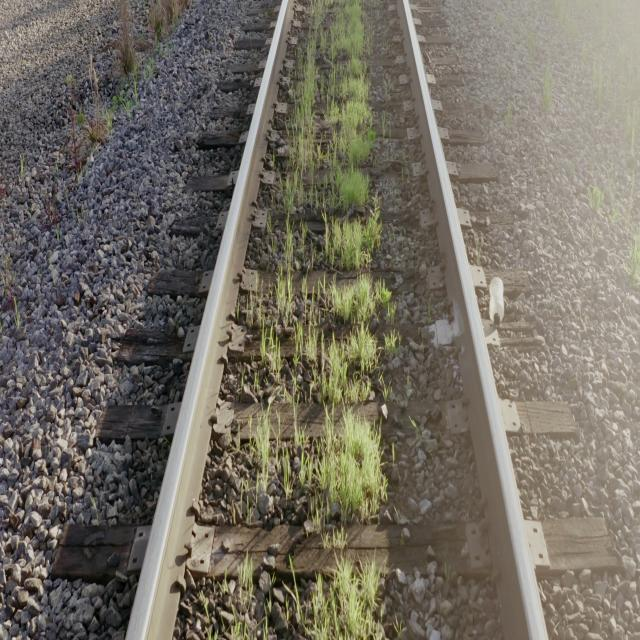Plant: (259, 0, 391, 549), (309, 556, 381, 640), (250, 409, 271, 482), (261, 324, 281, 376), (240, 564, 251, 607)
